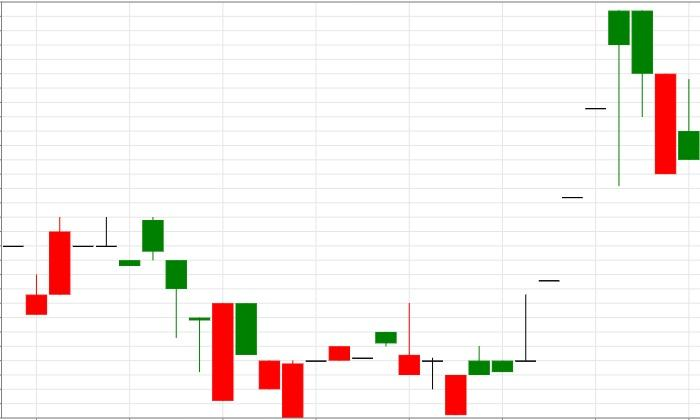hanging_man_fall: (446, 11, 629, 416)
